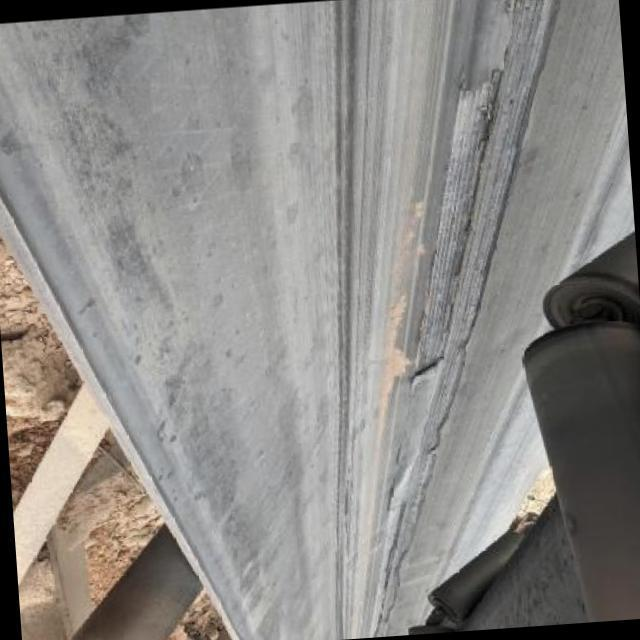Tear: (366, 0, 566, 640)
